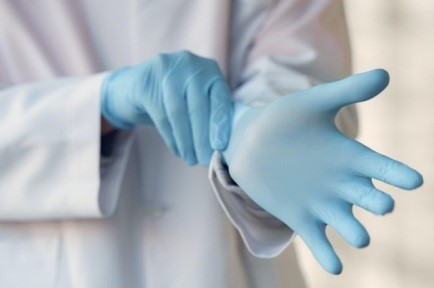glove: (230, 67, 427, 279), (104, 46, 235, 173)
